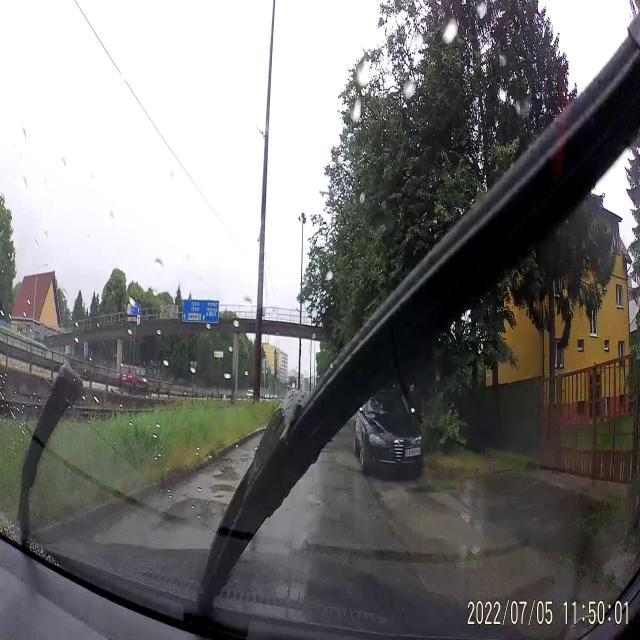Manhole: (207, 484, 237, 493)
Pothole: (162, 492, 228, 537), (212, 456, 246, 482)
